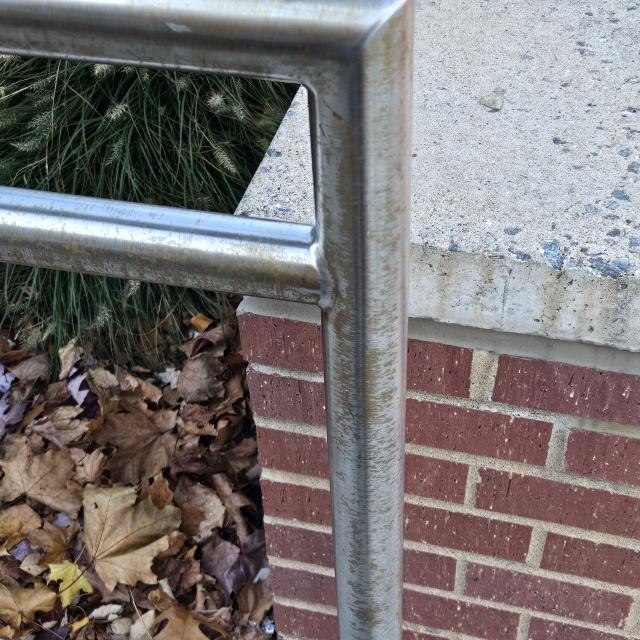Uniform Corrosion: (1, 1, 411, 640)
